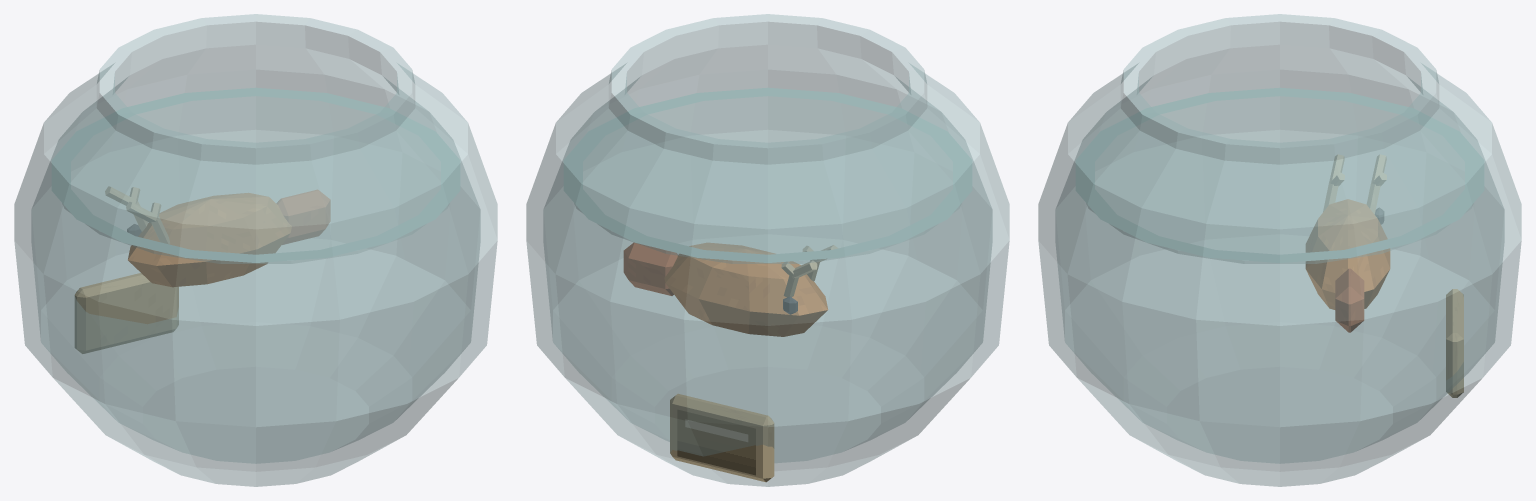
The model's file is fish_bowl.glb.
The picture shows the model from 3 angles, left to right: view 1: azimuth 30°, elevation 25°; view 2: azimuth 150°, elevation 25°; view 3: azimuth 270°, elevation 25°; orthographic projection.
Parts seen in each view (by area): view 1: block_rounded open fish bowl, block_filled water surface, block_Hoss the goldfish, block_gift tag, block_forked tail, block_waterline glint 14, block_waterline glint 15, block_waterline glint 5, block_waterline glint 6, block_waterline glint 13, block_waterline glint 16, block_waterline glint 4 (+11 smaller); view 2: block_rounded open fish bowl, block_filled water surface, block_Hoss the goldfish, block_gift lettering, block_gift tag, block_forked tail, block_waterline glint 2, block_waterline glint 3, block_waterline glint 1, block_waterline glint 4, block_waterline glint 11, block_waterline glint 12 (+12 smaller); view 3: block_rounded open fish bowl, block_filled water surface, block_Hoss the goldfish, block_gift tag, block_forked tail, block_waterline glint 8, block_waterline glint 9, block_waterline glint 0, block_waterline glint 7, block_waterline glint 10, block_waterline glint 17, block_waterline glint 1 (+11 smaller).
Part boxes in pixels (x1,y1,x2,y2): block_rounded open fish bowl: (14,14,497,486); block_filled water surface: (63,96,448,263); block_Hoss the goldfish: (128,193,291,287); block_gift tag: (74,273,178,353); block_forked tail: (277,190,330,244); block_waterline glint 14: (185,87,255,100); block_waterline glint 15: (256,87,326,100); block_waterline glint 5: (256,250,326,262); block_waterline glint 6: (185,250,255,262); block_waterline glint 13: (123,93,191,114); block_waterline glint 16: (320,93,388,114); block_waterline glint 4: (320,236,388,257); block_rounded open fish bowl: (526,14,1009,486); block_filled water surface: (575,96,960,263); block_Hoss the goldfish: (664,243,827,336); block_gift lettering: (677,410,755,475); block_gift tag: (670,394,774,482); block_forked tail: (623,242,677,295); block_waterline glint 2: (697,87,767,100); block_waterline glint 3: (768,87,838,100); block_waterline glint 1: (635,93,703,114); block_waterline glint 4: (832,93,900,114); block_waterline glint 11: (768,250,838,262); block_waterline glint 12: (697,250,767,262); block_rounded open fish bowl: (1038,14,1521,486); block_filled water surface: (1087,96,1472,263); block_Hoss the goldfish: (1305,199,1390,309); block_gift tag: (1446,289,1463,397); block_forked tail: (1335,268,1364,332); block_waterline glint 8: (1209,87,1279,100); block_waterline glint 9: (1280,87,1350,100); block_waterline glint 0: (1209,250,1279,262); block_waterline glint 7: (1147,93,1215,114); block_waterline glint 10: (1344,93,1412,114); block_waterline glint 17: (1280,250,1350,262); block_waterline glint 1: (1147,236,1215,257).
Size of the model in its own units: 0.3878 by 0.3108 by 0.3819.
Materials: 2 (2 with a texture image).
